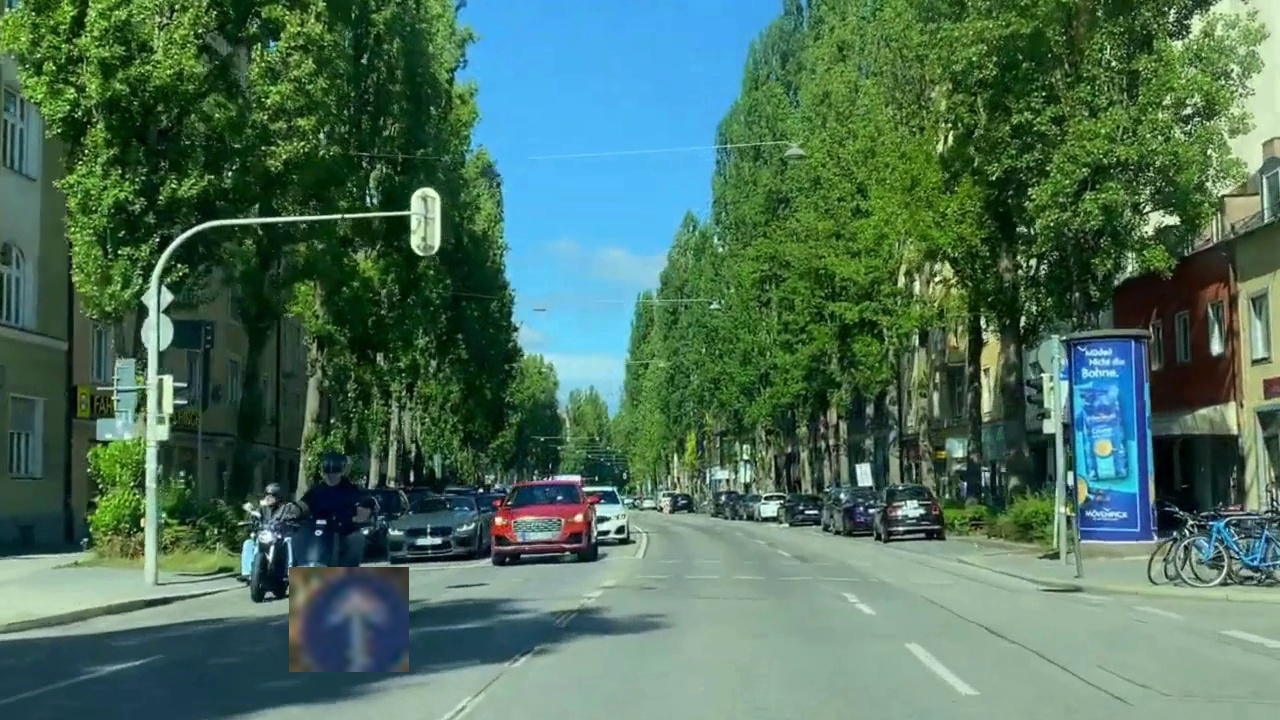Ahead only: (289, 567, 409, 672)
